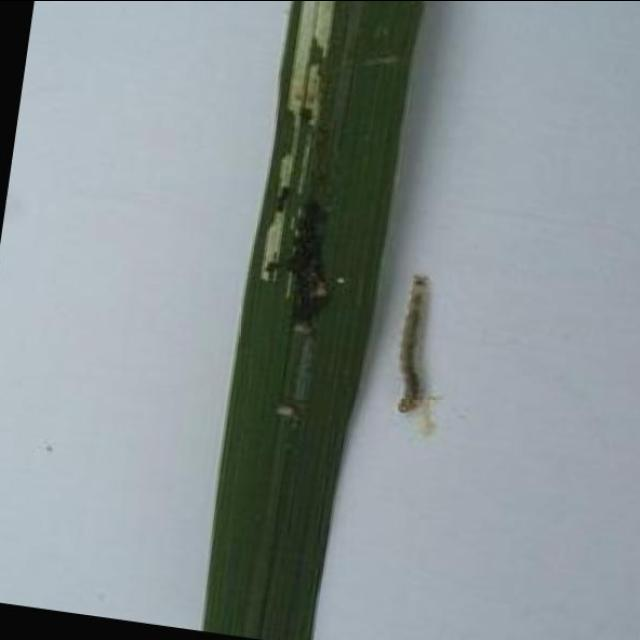leaf folder: (397, 276, 426, 413)
